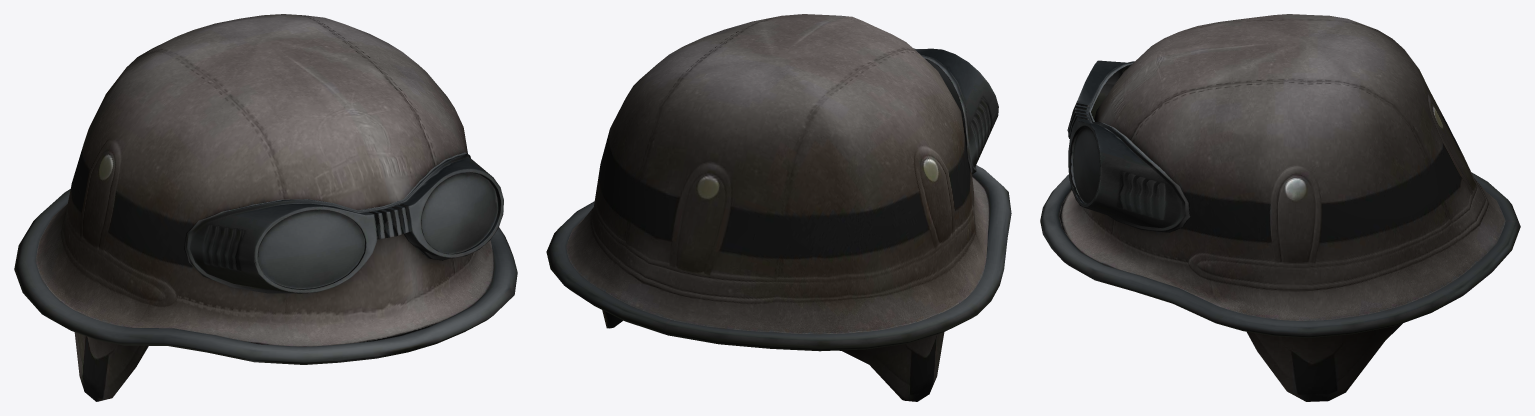
The model's file is vintage_helmet.glb.
3 renders of one model, left to right at view 1: azimuth 30°, elevation 25°; view 2: azimuth 150°, elevation 25°; view 3: azimuth 270°, elevation 25°, orthographic. The views are drawn at different scales.
Parts seen in each view (by area): view 1: Object_2; view 2: Object_2; view 3: Object_2.
Part boxes in pixels (<box>): Object_2: <box>14,14,517,401</box>; Object_2: <box>546,14,1011,401</box>; Object_2: <box>1040,14,1520,401</box>.
Size of the model in its own units: 23.25 by 16.33 by 24.68.
1 material, 1 textured.
